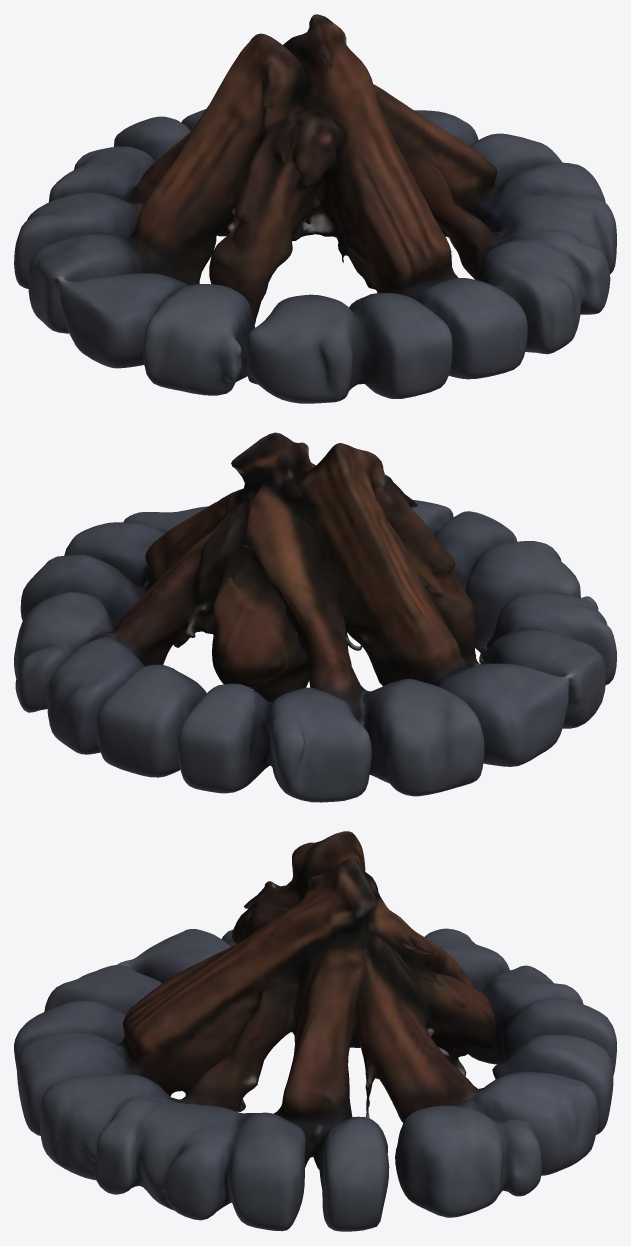
The model's file is f7b5d7163386_campfire__3d_asset_0_glb.glb.
3 views of the same model, one above another, from view 1: azimuth 30°, elevation 25°; view 2: azimuth 150°, elevation 25°; view 3: azimuth 270°, elevation 25° (orthographic).
Parts seen in each view (by area): view 1: world; view 2: world; view 3: world.
Boxes of the visible parts, x1,y1,x2,y2 form: world: [14, 14, 616, 403]; world: [14, 432, 616, 802]; world: [14, 831, 616, 1231].
Bounding box in the file's own units: 0.5587 × 0.2685 × 0.5494.
Materials: 1 (1 with a texture image).
